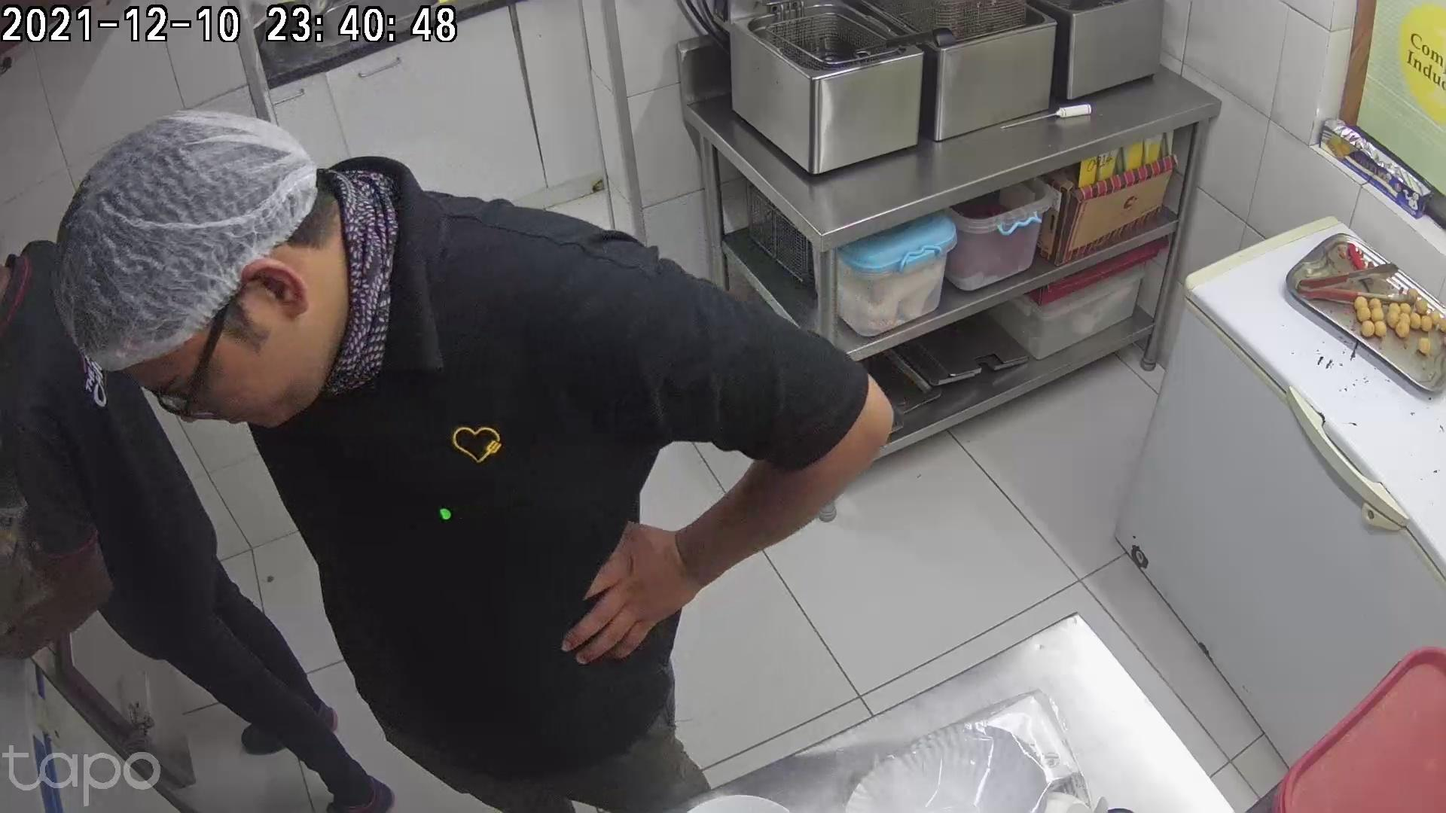no_gloves: (395, 600, 481, 716)
